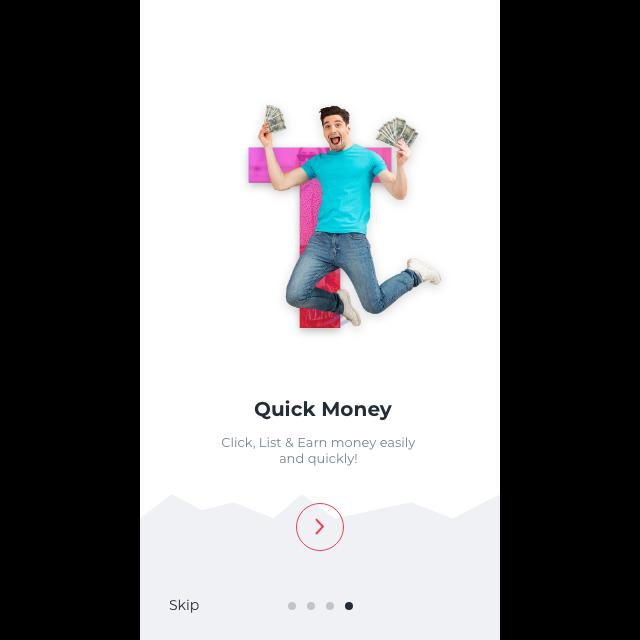icon: (296, 503, 344, 552)
image: (250, 105, 442, 329)
pageindicator: (288, 602, 354, 610)
text: (224, 437, 416, 467), (255, 400, 393, 420), (170, 598, 200, 614)
